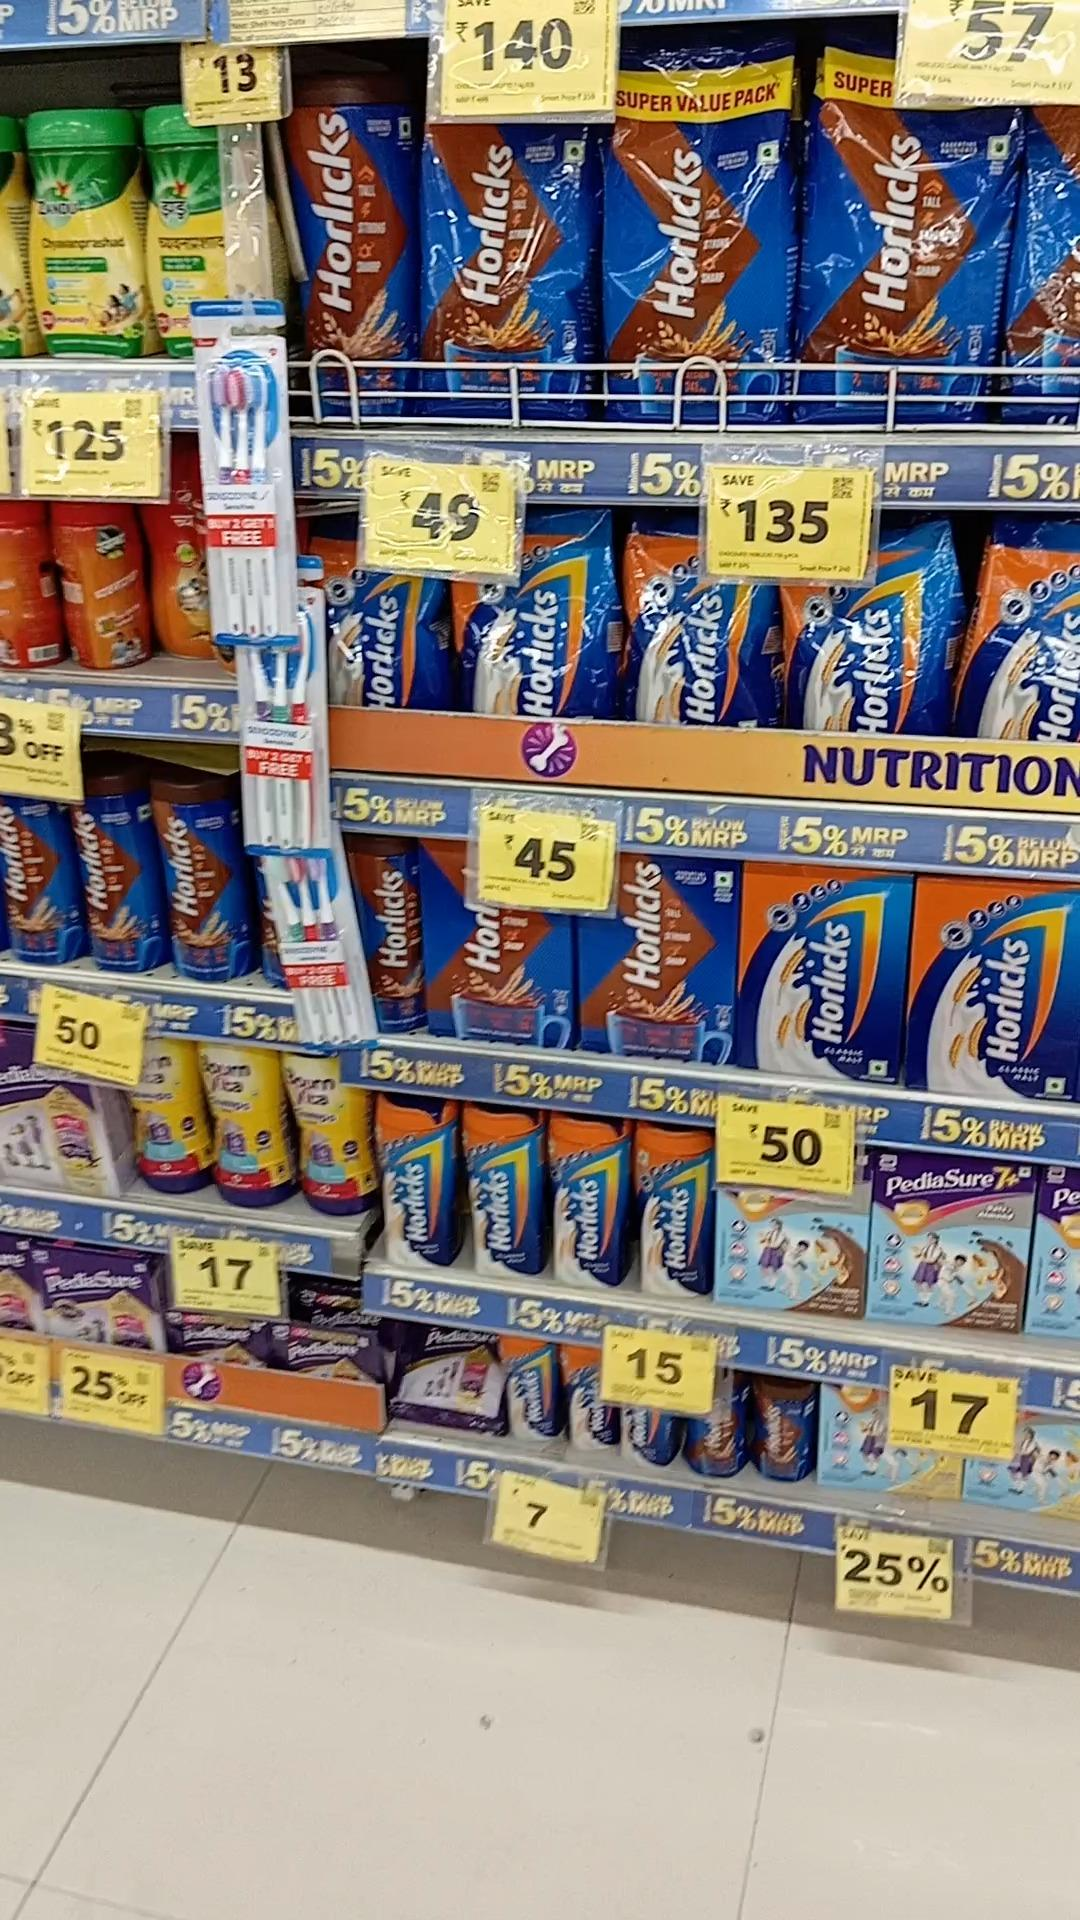BOURN_VITA_CHAMPS_500_G_JAR: (199, 1043, 289, 1207), (293, 1052, 377, 1213)
HORLICK_CHOCOLATE_1_KG_JAR: (290, 74, 414, 411)
HORLICK_CHOCOLATE_500_G_JAR: (158, 773, 256, 982), (76, 757, 149, 968)
HORLICK_CHOCOLATE_500_G_PACK: (584, 855, 736, 1071)
HORLICK_CHOCOLATE_750_G_POUCH: (811, 41, 1005, 419), (611, 59, 791, 411), (425, 125, 597, 413)
HORLICK_CLASSIC_MALT_500_G_JAR: (550, 1112, 634, 1287), (464, 1102, 546, 1280), (381, 1093, 462, 1266), (638, 1122, 712, 1299)
HORLICK_CLASSIC_MALT_500_G_PACK: (736, 861, 907, 1085), (914, 873, 1080, 1091)
HORLICK_CLASSIC_MALT_750_G_POUCH: (463, 517, 626, 723), (789, 558, 961, 735), (633, 521, 778, 724)
PEDIASURE_7_PLUS_CHOCOLATE_400_G_PACK: (868, 1150, 1031, 1333)
